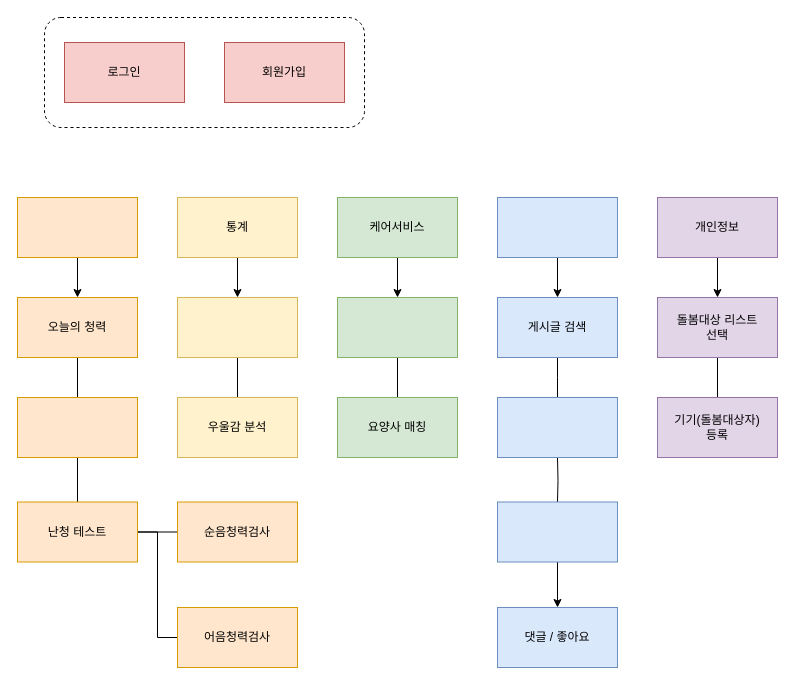
This 795x685 diagram has some shape labels left out. Each missing label, with the centre of its shape:
게시글 수정/삭제: (x=557, y=531)
게시글 작성: (x=557, y=427)
난청 통계: (x=237, y=327)
병원 추천: (x=397, y=327)
오늘의 기분: (x=77, y=427)
커뮤니티: (x=557, y=227)
홈 화면: (x=77, y=227)
